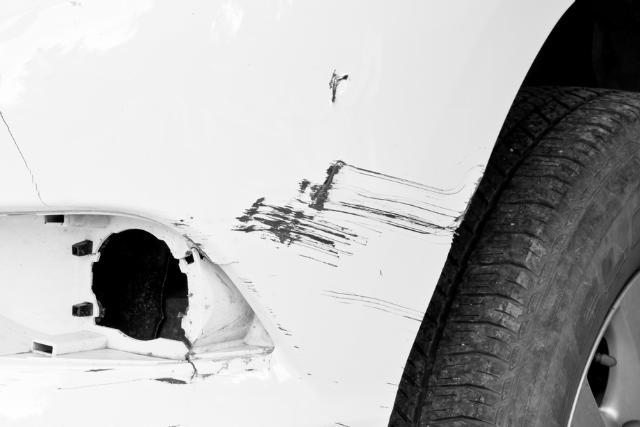Bumper: (0, 17, 442, 427)
